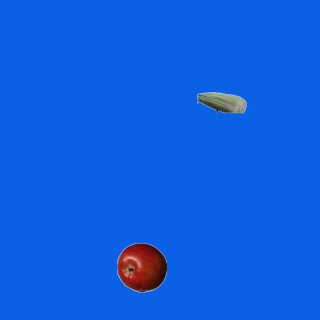Apple Braeburn: (116, 242, 166, 292)
Corn Husk: (196, 77, 246, 127)
